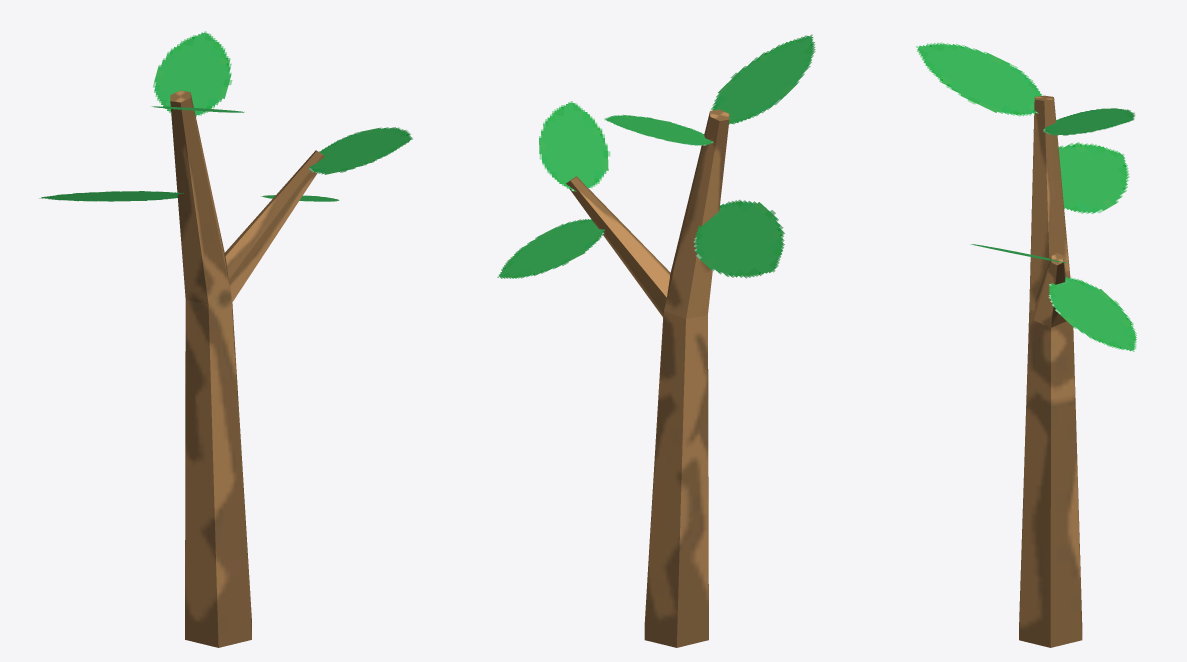
The model's file is Tree_AppleSapling.obj.
3 renders of one model, left to right at view 1: azimuth 30°, elevation 25°; view 2: azimuth 150°, elevation 25°; view 3: azimuth 270°, elevation 25°, orthographic. The views are drawn at different scales.
Parts seen in each view (by area): view 1: Mesh_0002, Mesh_0003; view 2: Mesh_0002, Mesh_0003; view 3: Mesh_0002, Mesh_0003.
Boxes of the visible parts, x1=… form: Mesh_0002: x1=170, y1=90, x2=324, y2=647; Mesh_0003: x1=39, y1=31, x2=412, y2=201; Mesh_0002: x1=566, y1=109, x2=729, y2=647; Mesh_0003: x1=497, y1=34, x2=815, y2=278; Mesh_0002: x1=1019, y1=95, x2=1082, y2=647; Mesh_0003: x1=916, y1=42, x2=1136, y2=351.
Size of the model in its own units: 0.8635 by 1.37 by 0.63.
Materials: 2 (2 with a texture image).
